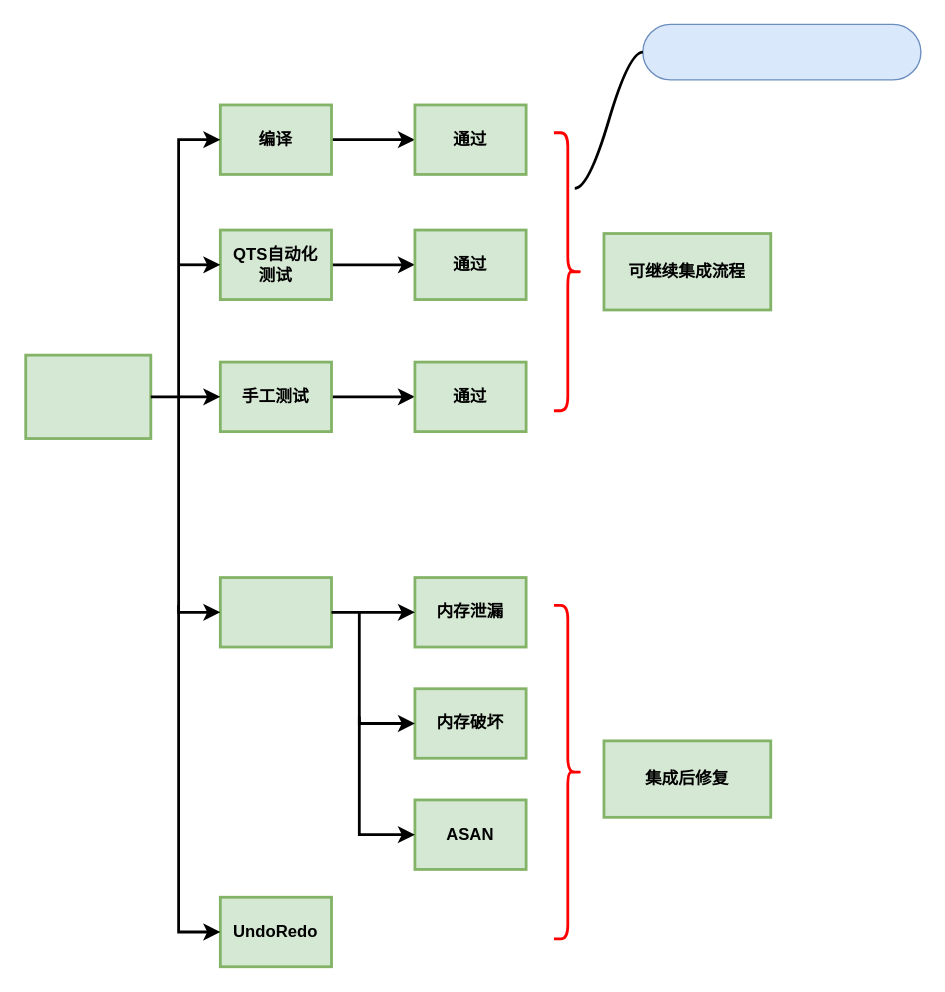
The diagram is 945 pixels wide and 992 high, and some of its shapes have lost their labels. Here are the shapes that lost their labels. From the top down, the centre of each, then its label:
(x=781, y=51): 任意项未通过按照原流程反馈
(x=88, y=396): 逻辑冲突
(x=275, y=611): 内存
